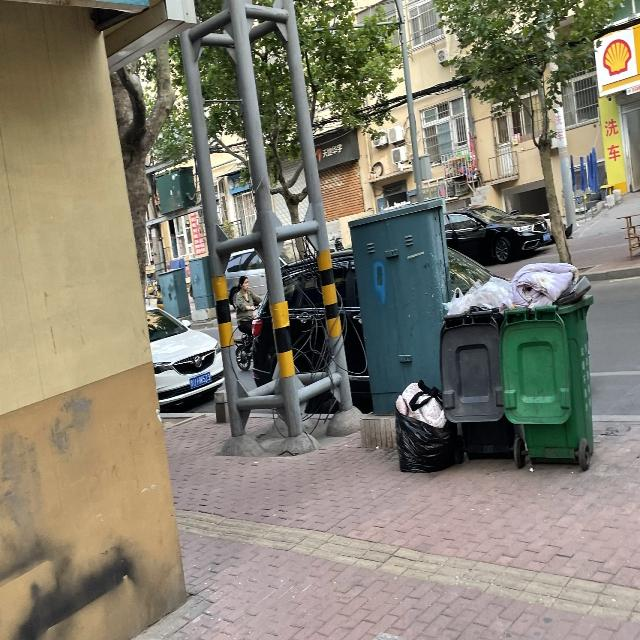garbage: (393, 379, 465, 471)
overflow: (501, 261, 594, 462), (438, 275, 512, 458)
